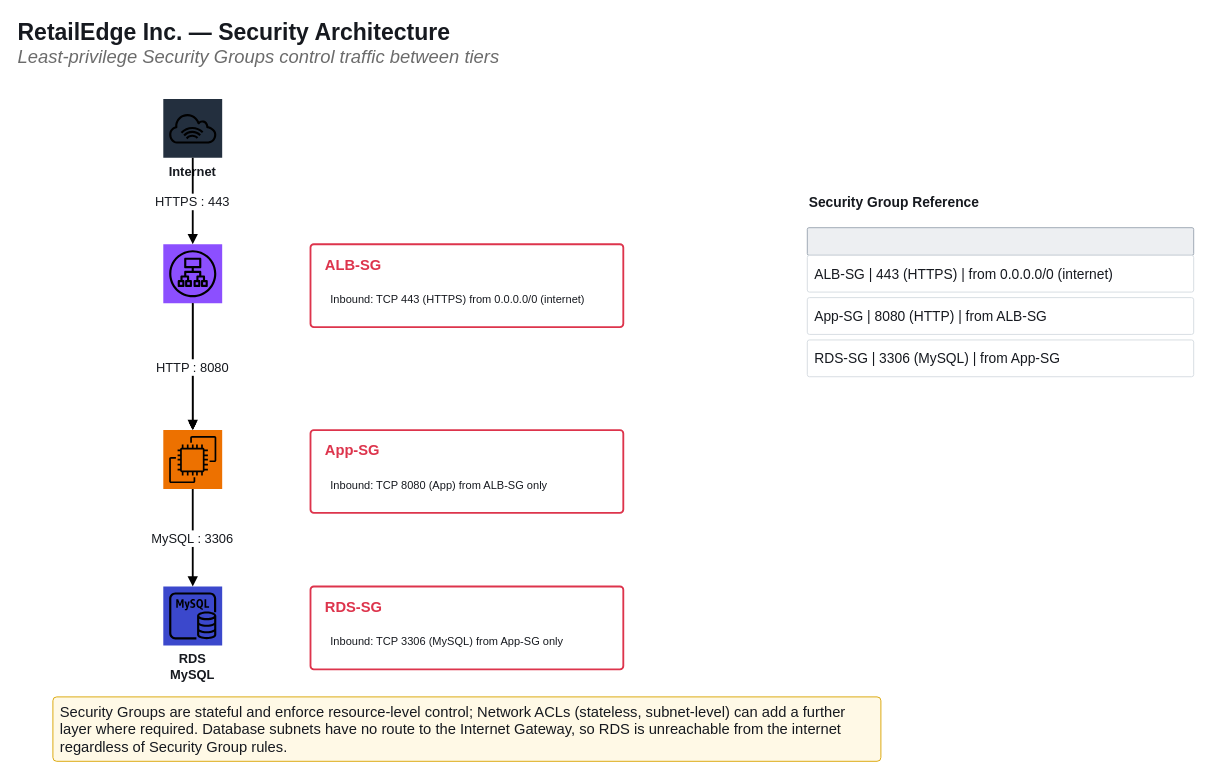
Image size: 1210x777. Some labels were removed from this diagram. The shapes that lost their labels are listed below. From the top down, each one's centre as x and y in pixels, then its label:
pixel 1000 241: Security Group | Port | Allowed Source
pixel 192 273: Application Load Balancer
pixel 192 459: EC2 Application
